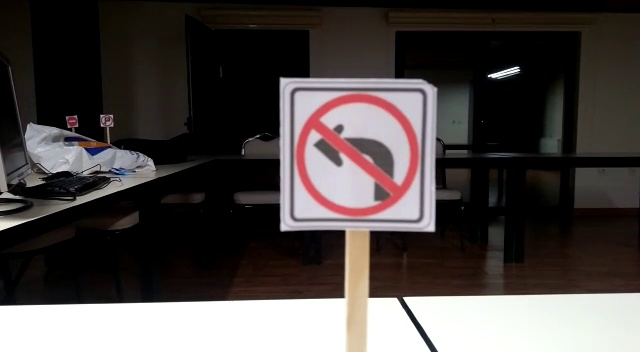sola_donulmez: (284, 79, 434, 227)
